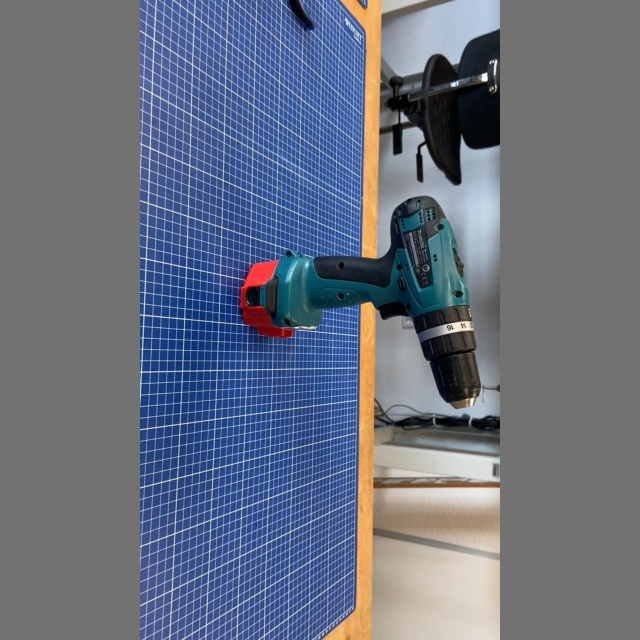drill: (234, 191, 486, 413)
